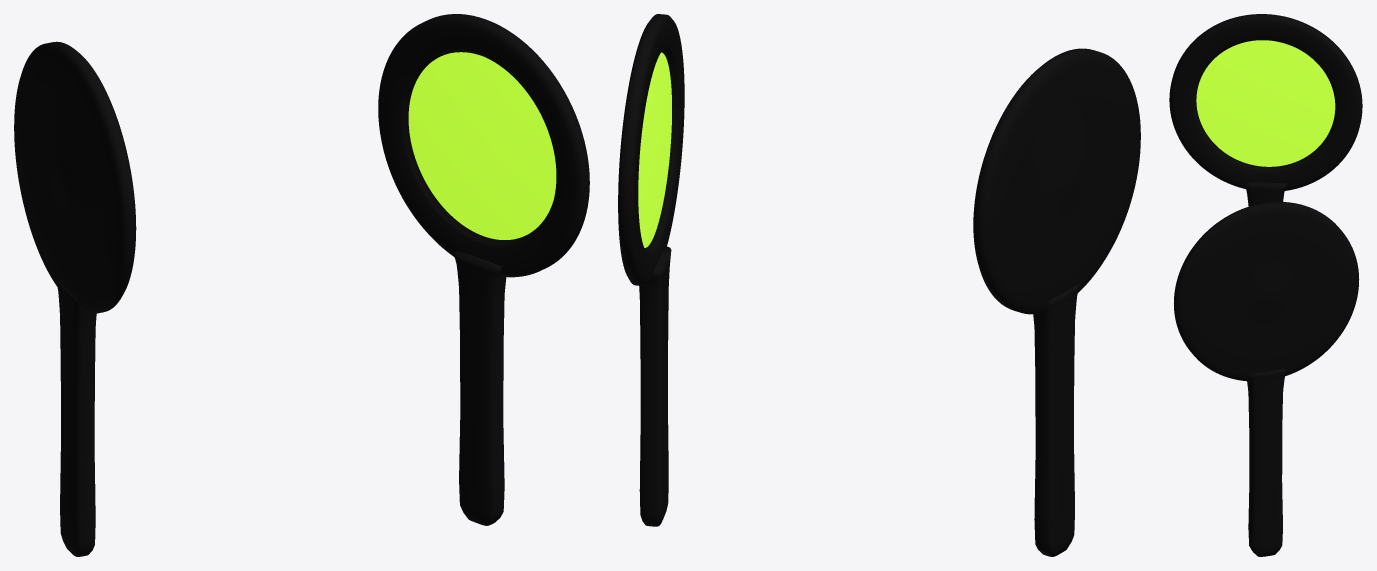
3 views of the same model, side by side, from view 1: azimuth 30°, elevation 25°; view 2: azimuth 150°, elevation 25°; view 3: azimuth 270°, elevation 25° (orthographic). The views are drawn at different scales.
Visible parts, largest first — view 1: kyoutai_hidari, kyoutai_migi, men_migi, e_migi, e_hidari; view 2: kyoutai_hidari, e_hidari, kyoutai_migi, e_migi, men_migi; view 3: kyoutai_migi, men_hidari, kyoutai_hidari, e_migi, e_hidari.
Part boxes in pixels (box(x1,y1,x2,y2)): kyoutai_hidari: box(14, 41, 136, 313); kyoutai_migi: box(378, 14, 589, 277); men_migi: box(408, 52, 556, 239); e_migi: box(453, 249, 506, 525); e_hidari: box(56, 279, 96, 556); kyoutai_hidari: box(973, 48, 1140, 314); e_hidari: box(1033, 283, 1079, 556); kyoutai_migi: box(618, 14, 684, 285); e_migi: box(639, 246, 671, 526); men_migi: box(638, 52, 671, 247); kyoutai_migi: box(1174, 201, 1359, 381); men_hidari: box(1196, 40, 1335, 166); kyoutai_hidari: box(1169, 14, 1362, 190); e_migi: box(1247, 368, 1285, 556); e_hidari: box(1243, 181, 1286, 206).
Bounding box in the file's own units: 1.31 × 1.51 × 0.6585.
